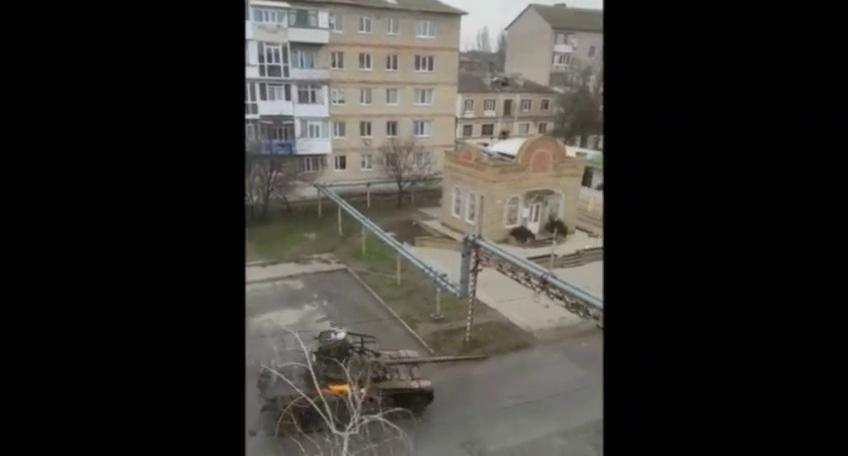tank: (259, 329, 491, 428)
